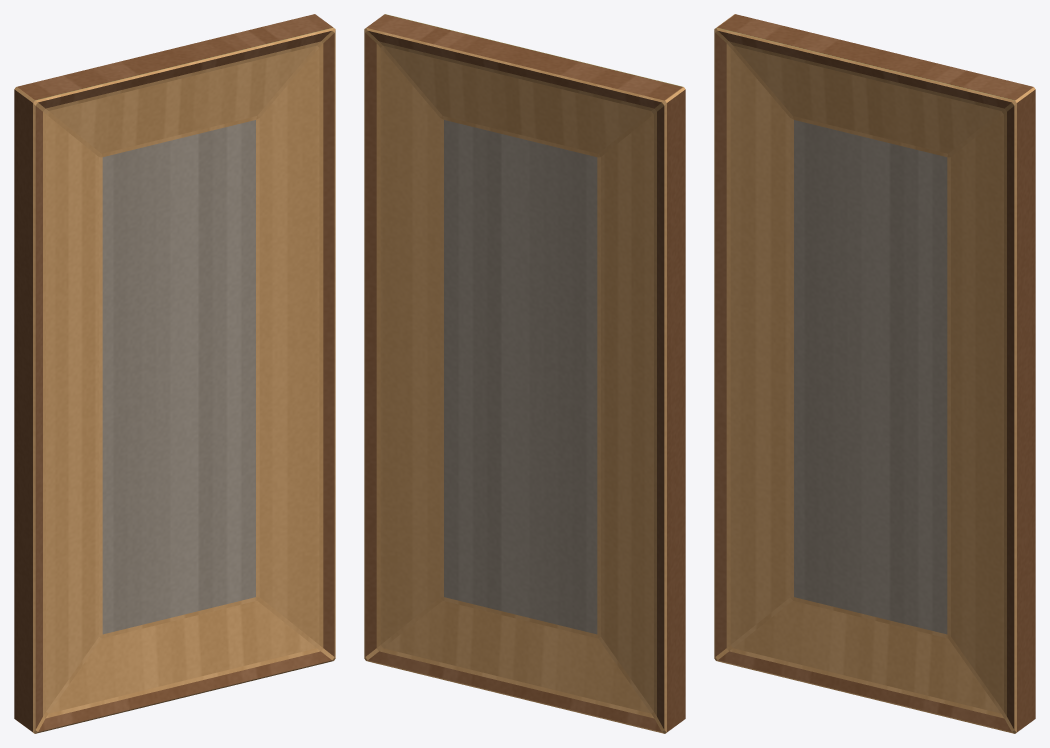
File: sm_farm_wall_window.glb
3 views of the same model, side by side, from view 1: azimuth 30°, elevation 25°; view 2: azimuth 150°, elevation 25°; view 3: azimuth 330°, elevation 25° (orthographic).
Parts seen in each view (by area): view 1: sm_farm_wall_window; view 2: sm_farm_wall_window; view 3: sm_farm_wall_window.
Part boxes in pixels (x1,y1,x2,y2): sm_farm_wall_window: (14,14,335,733); sm_farm_wall_window: (364,14,685,733); sm_farm_wall_window: (714,14,1035,733).
Bounding box in the file's own units: 1 × 2 × 0.116.
1 material, 1 textured.
